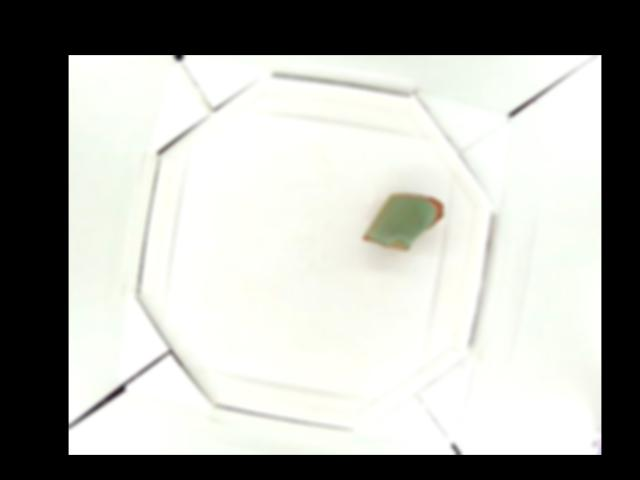China: (361, 191, 446, 250)
